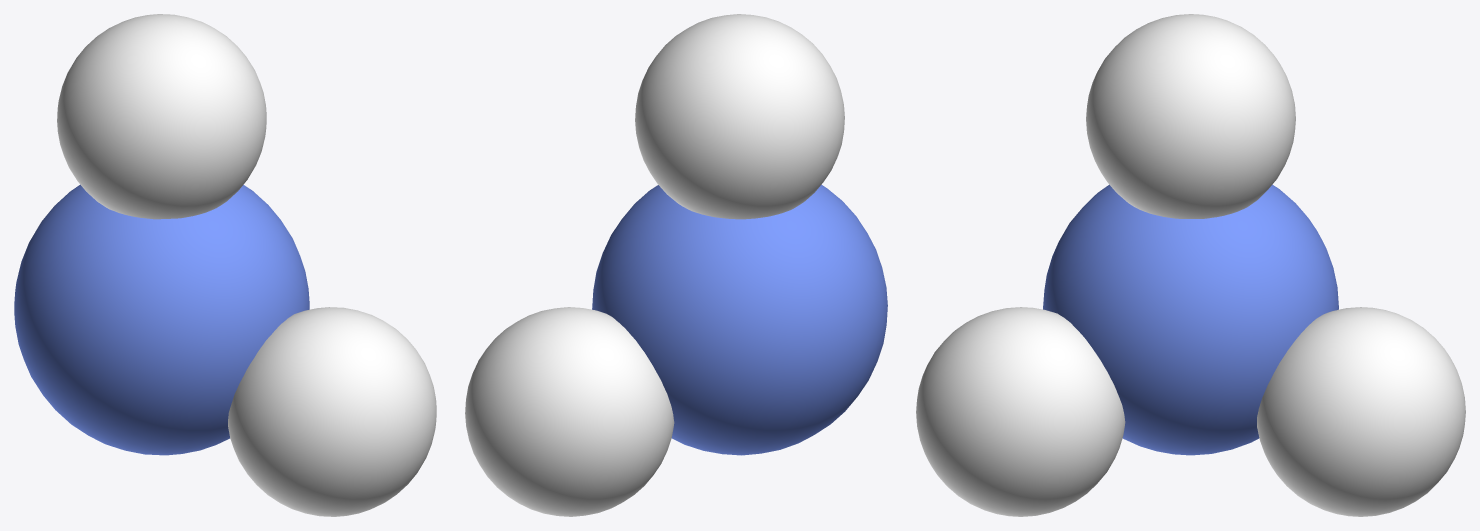
The picture shows the model from 3 angles, left to right: view 1: azimuth 30°, elevation 25°; view 2: azimuth 150°, elevation 25°; view 3: azimuth 270°, elevation 25°; orthographic projection.
Parts seen in each view (by area): view 1: N_Atom, H_Atom, H_Atom_1; view 2: N_Atom, H_Atom, H_Atom_2; view 3: N_Atom, H_Atom, H_Atom_1, H_Atom_2.
Boxes of the visible parts, box(x1,y1,x2,y2) form: N_Atom: box(14, 184, 309, 455); H_Atom: box(57, 14, 266, 219); H_Atom_1: box(228, 307, 436, 516); N_Atom: box(592, 185, 887, 455); H_Atom: box(635, 14, 844, 219); H_Atom_2: box(465, 307, 674, 516); N_Atom: box(1043, 184, 1338, 455); H_Atom: box(1086, 14, 1295, 218); H_Atom_1: box(916, 307, 1125, 516); H_Atom_2: box(1257, 307, 1465, 516).
Size of the model in its own units: 1.84 by 2.55 by 2.88.
